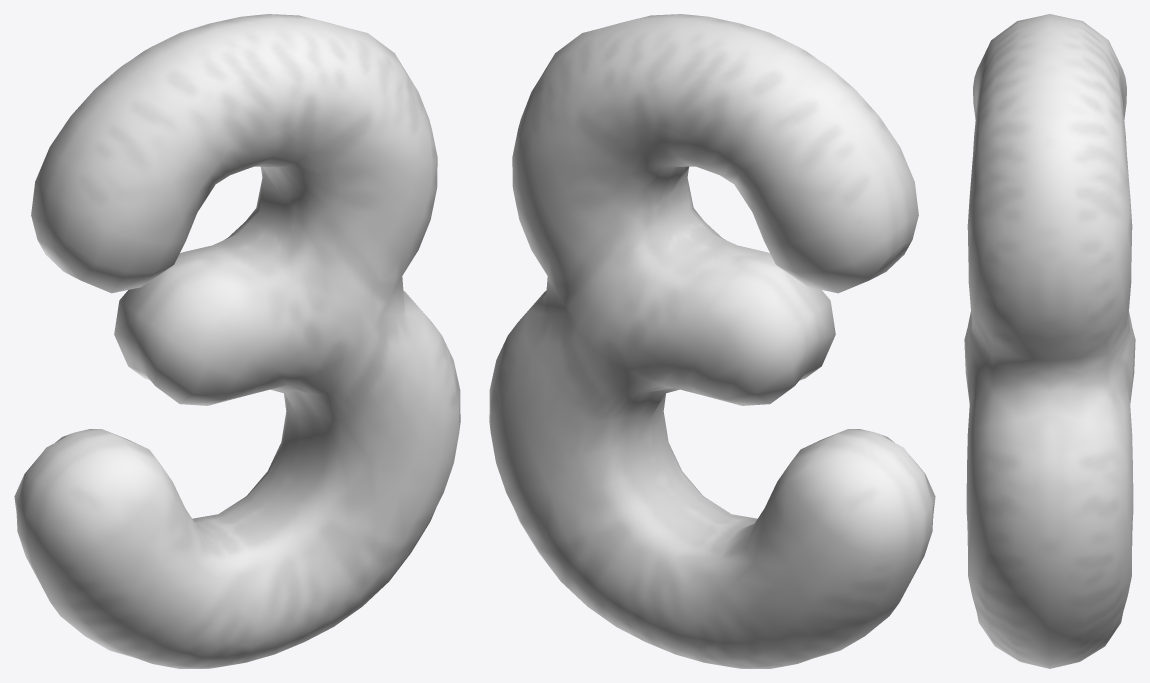
Rendered from LettersBalloon01_3.FBX.
3 renders of one model, left to right at view 1: azimuth 30°, elevation 25°; view 2: azimuth 150°, elevation 25°; view 3: azimuth 270°, elevation 25°, orthographic. The views are drawn at different scales.
Visible parts, largest first — view 1: LettersBalloon01_3; view 2: LettersBalloon01_3; view 3: LettersBalloon01_3.
Boxes of the visible parts, x1=… form: LettersBalloon01_3: x1=14, y1=14, x2=460, y2=668; LettersBalloon01_3: x1=489, y1=14, x2=935, y2=668; LettersBalloon01_3: x1=964, y1=14, x2=1135, y2=668.
Size of what is drawn, in the model's own units: 0.341 by 0.4881 by 0.1247.
